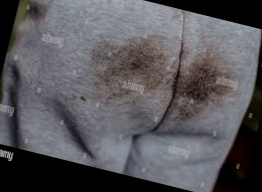earth: (113, 46, 167, 87), (180, 58, 219, 111)
